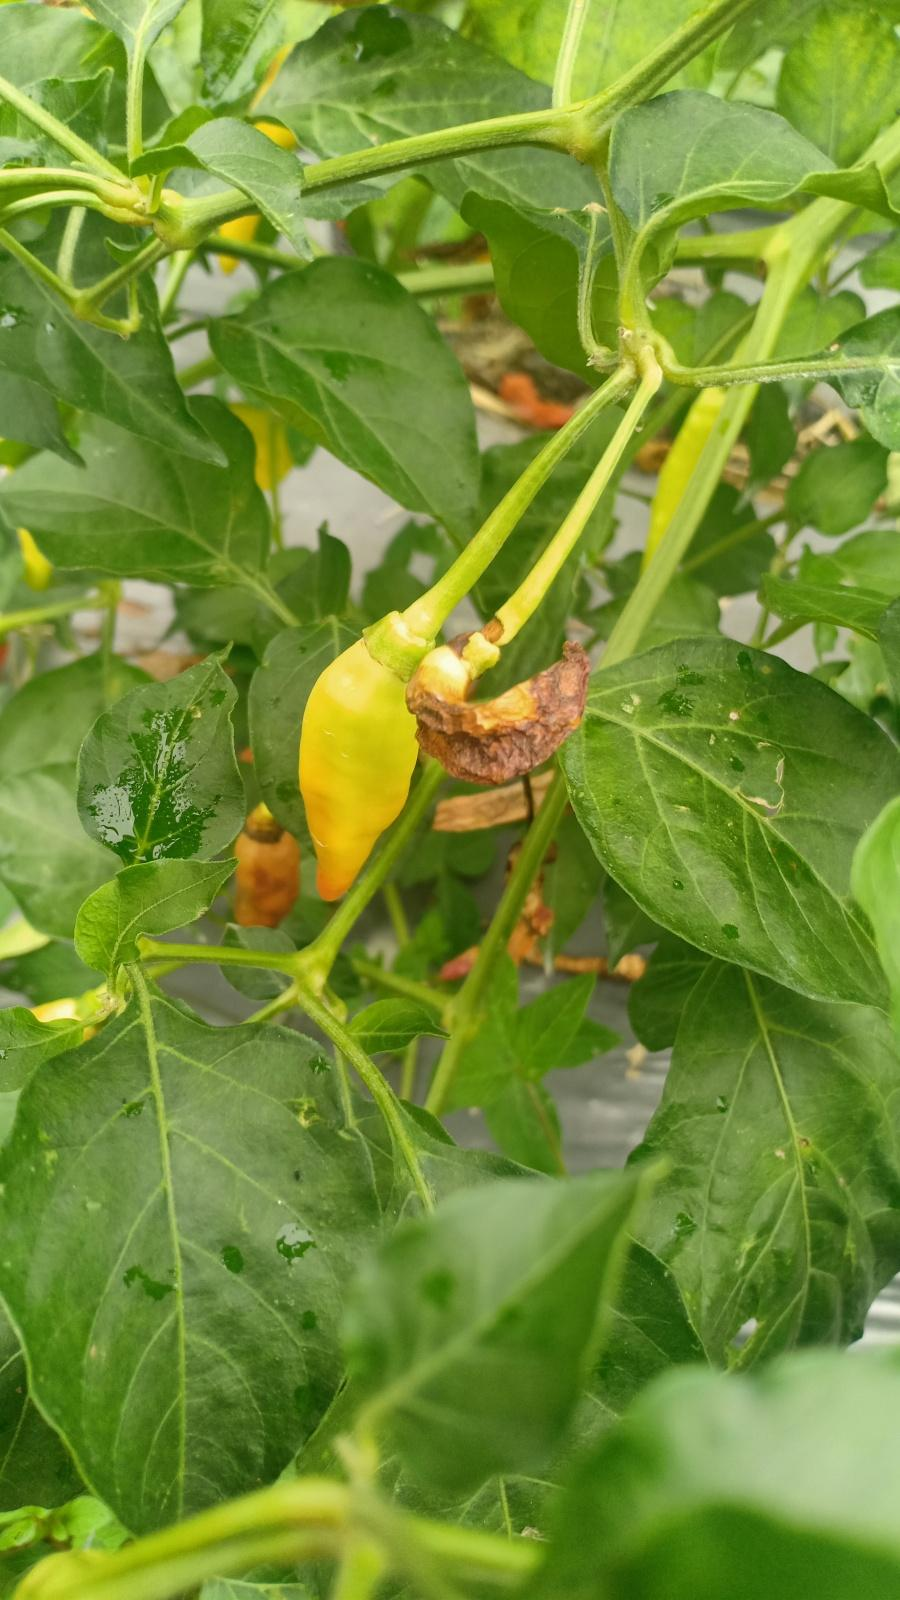antraknosa: (402, 641, 590, 782)
cabai_normal: (295, 636, 422, 904)
